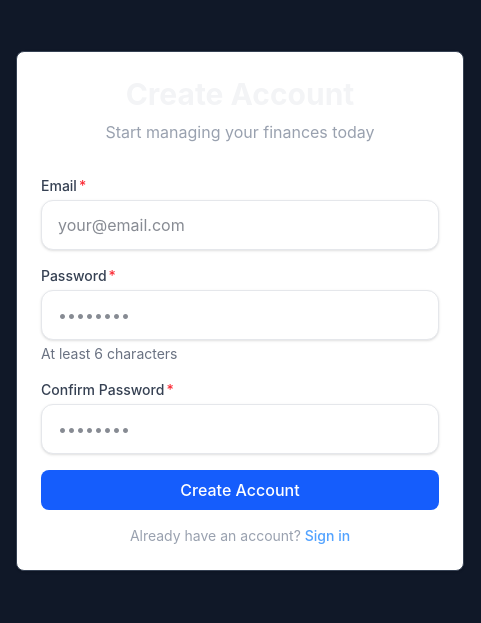
Test case: SignUpPage › shows error when passwords do not match
The image size is (481, 623).
Type "a@b.com" into the field labelled "Email*". click: (240, 225)
box: [41, 200, 439, 250]
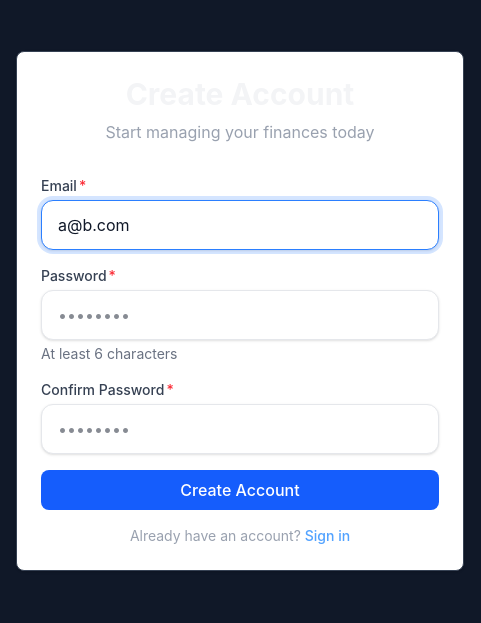
Type "password1" into the password field labelled "Password*". click: (240, 315)
box: [41, 290, 439, 340]
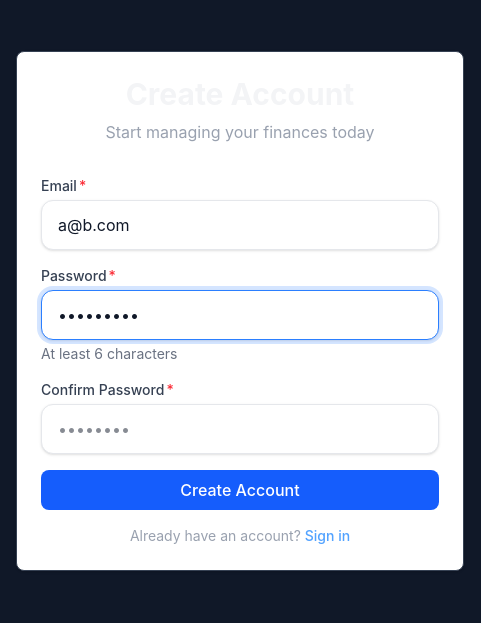
Type "password2" into the password field labelled "Confirm Password*". click: (240, 429)
box: [41, 404, 439, 454]
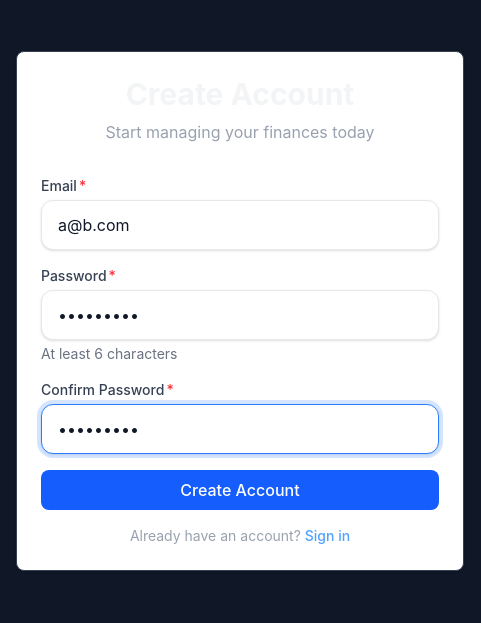
Click the button "Create Account". click: (240, 490)
box: [41, 470, 439, 510]
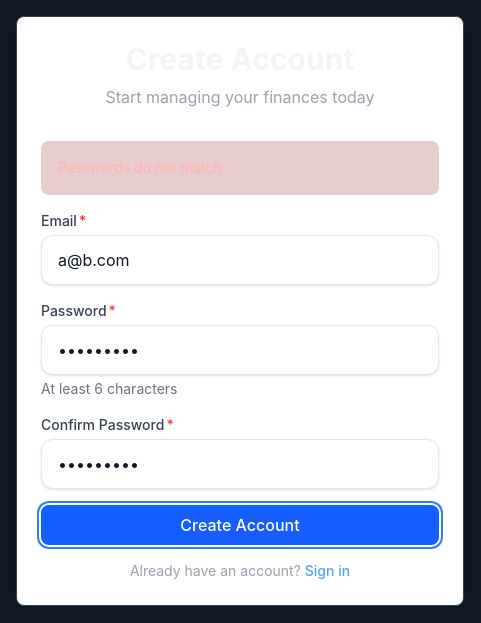
Result: the text "Passwords do not match" is shown at [41, 141, 439, 195]
